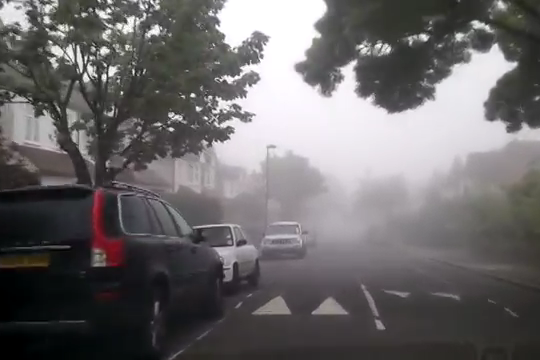car: (1, 179, 227, 360), (177, 222, 263, 295), (259, 219, 307, 262)
